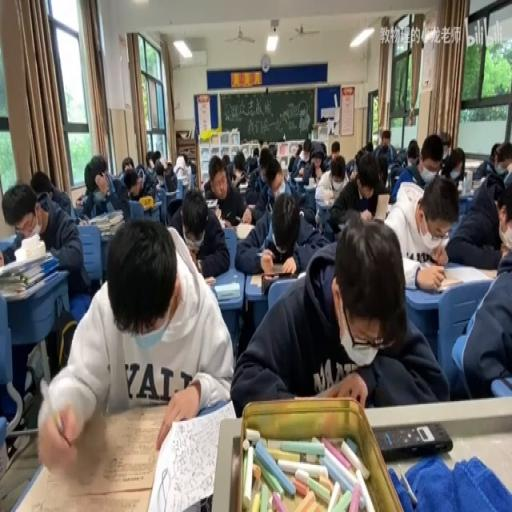calculator: (248, 268, 295, 292), (442, 262, 493, 283), (373, 192, 389, 222), (214, 282, 240, 300), (235, 222, 256, 240), (312, 194, 334, 208), (213, 205, 229, 223), (302, 180, 317, 198), (469, 176, 485, 192), (222, 219, 236, 233), (204, 196, 218, 206), (179, 175, 190, 186), (237, 180, 248, 190), (77, 216, 89, 225), (150, 198, 162, 206), (293, 176, 303, 184)
paper: (38, 216, 230, 468), (230, 213, 442, 414), (4, 176, 90, 303), (386, 169, 459, 286), (444, 165, 510, 270), (168, 185, 230, 280), (326, 150, 384, 238), (80, 154, 129, 223), (242, 148, 276, 215), (471, 142, 512, 182), (125, 155, 157, 202), (415, 132, 443, 184), (288, 138, 313, 181), (372, 129, 397, 168), (28, 169, 54, 199), (0, 235, 21, 266), (486, 170, 506, 200), (438, 131, 452, 158), (392, 146, 408, 168), (406, 140, 420, 164), (232, 154, 246, 176), (331, 166, 344, 186), (163, 172, 176, 191), (154, 161, 165, 182), (346, 155, 356, 178), (242, 205, 255, 222), (187, 159, 197, 181), (145, 151, 157, 168), (330, 140, 340, 160), (122, 155, 134, 171), (247, 158, 258, 175), (74, 194, 86, 206), (267, 142, 277, 156), (136, 164, 145, 179), (354, 150, 363, 164), (164, 162, 173, 176), (222, 154, 230, 168), (182, 151, 188, 168), (363, 141, 373, 151), (251, 145, 259, 157), (320, 142, 326, 158), (294, 144, 301, 156)
person: (374, 422, 451, 461), (204, 276, 216, 286)
